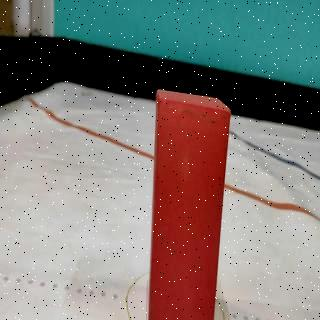redbox: (150, 87, 232, 320)
